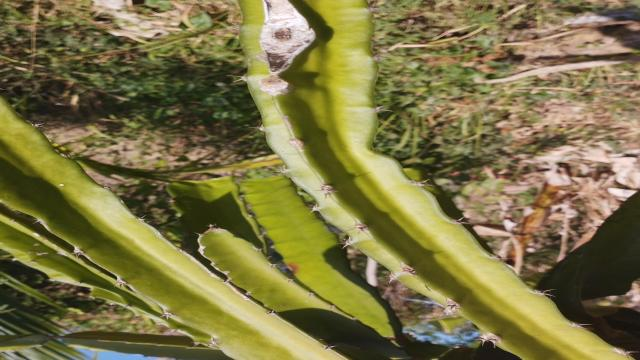stemcanker: (282, 251, 306, 280)
